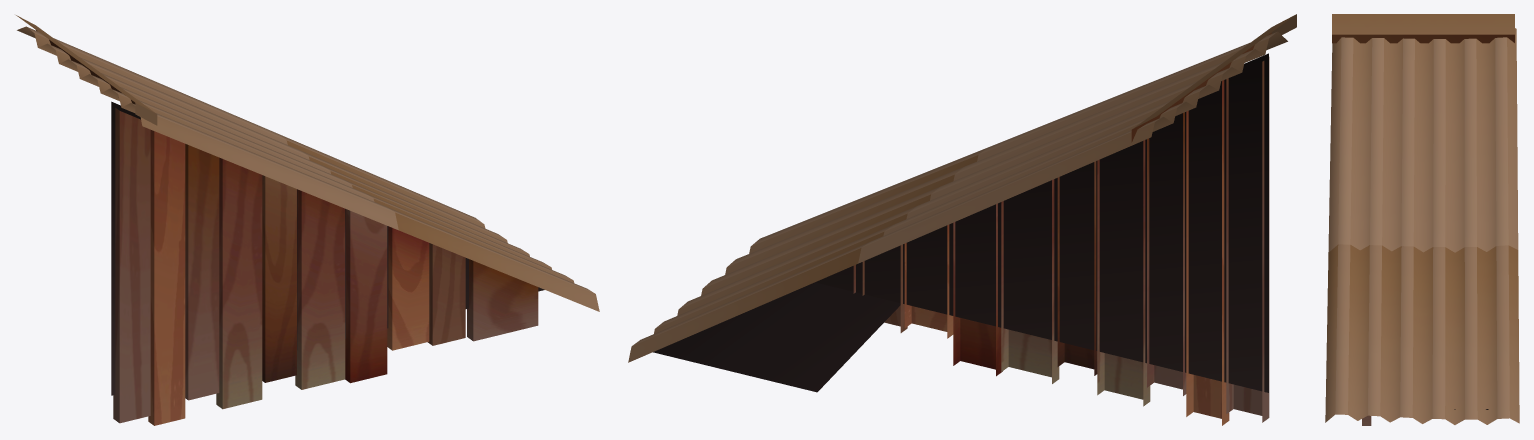
File: SM_Building_MetalRoof_01.fbx
3 renders of one model, left to right at view 1: azimuth 30°, elevation 25°; view 2: azimuth 150°, elevation 25°; view 3: azimuth 270°, elevation 25°, orthographic. The views are drawn at different scales.
Visible parts, largest first — view 1: SM_Building_MetalRoof_01; view 2: SM_Building_MetalRoof_01; view 3: SM_Building_MetalRoof_01.
Boxes of the visible parts, x1,y1,x2,y2 form: SM_Building_MetalRoof_01: (16,15,599,425); SM_Building_MetalRoof_01: (628,14,1296,425); SM_Building_MetalRoof_01: (1325,14,1519,425).
Size of the model in its own units: 2.75 by 2 by 1.33.
